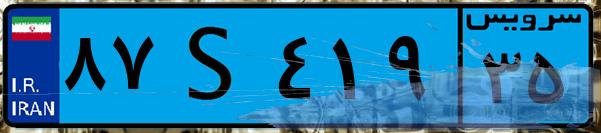1: (330, 28, 385, 110)
3: (475, 38, 525, 113)
4: (270, 28, 330, 110)
5: (525, 38, 570, 115)
7: (110, 28, 158, 98)
8: (57, 26, 110, 100)
9: (385, 28, 445, 110)
S: (158, 12, 270, 120)
